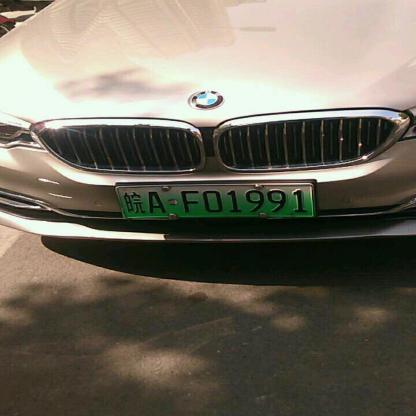lp: (115, 183, 315, 218)
